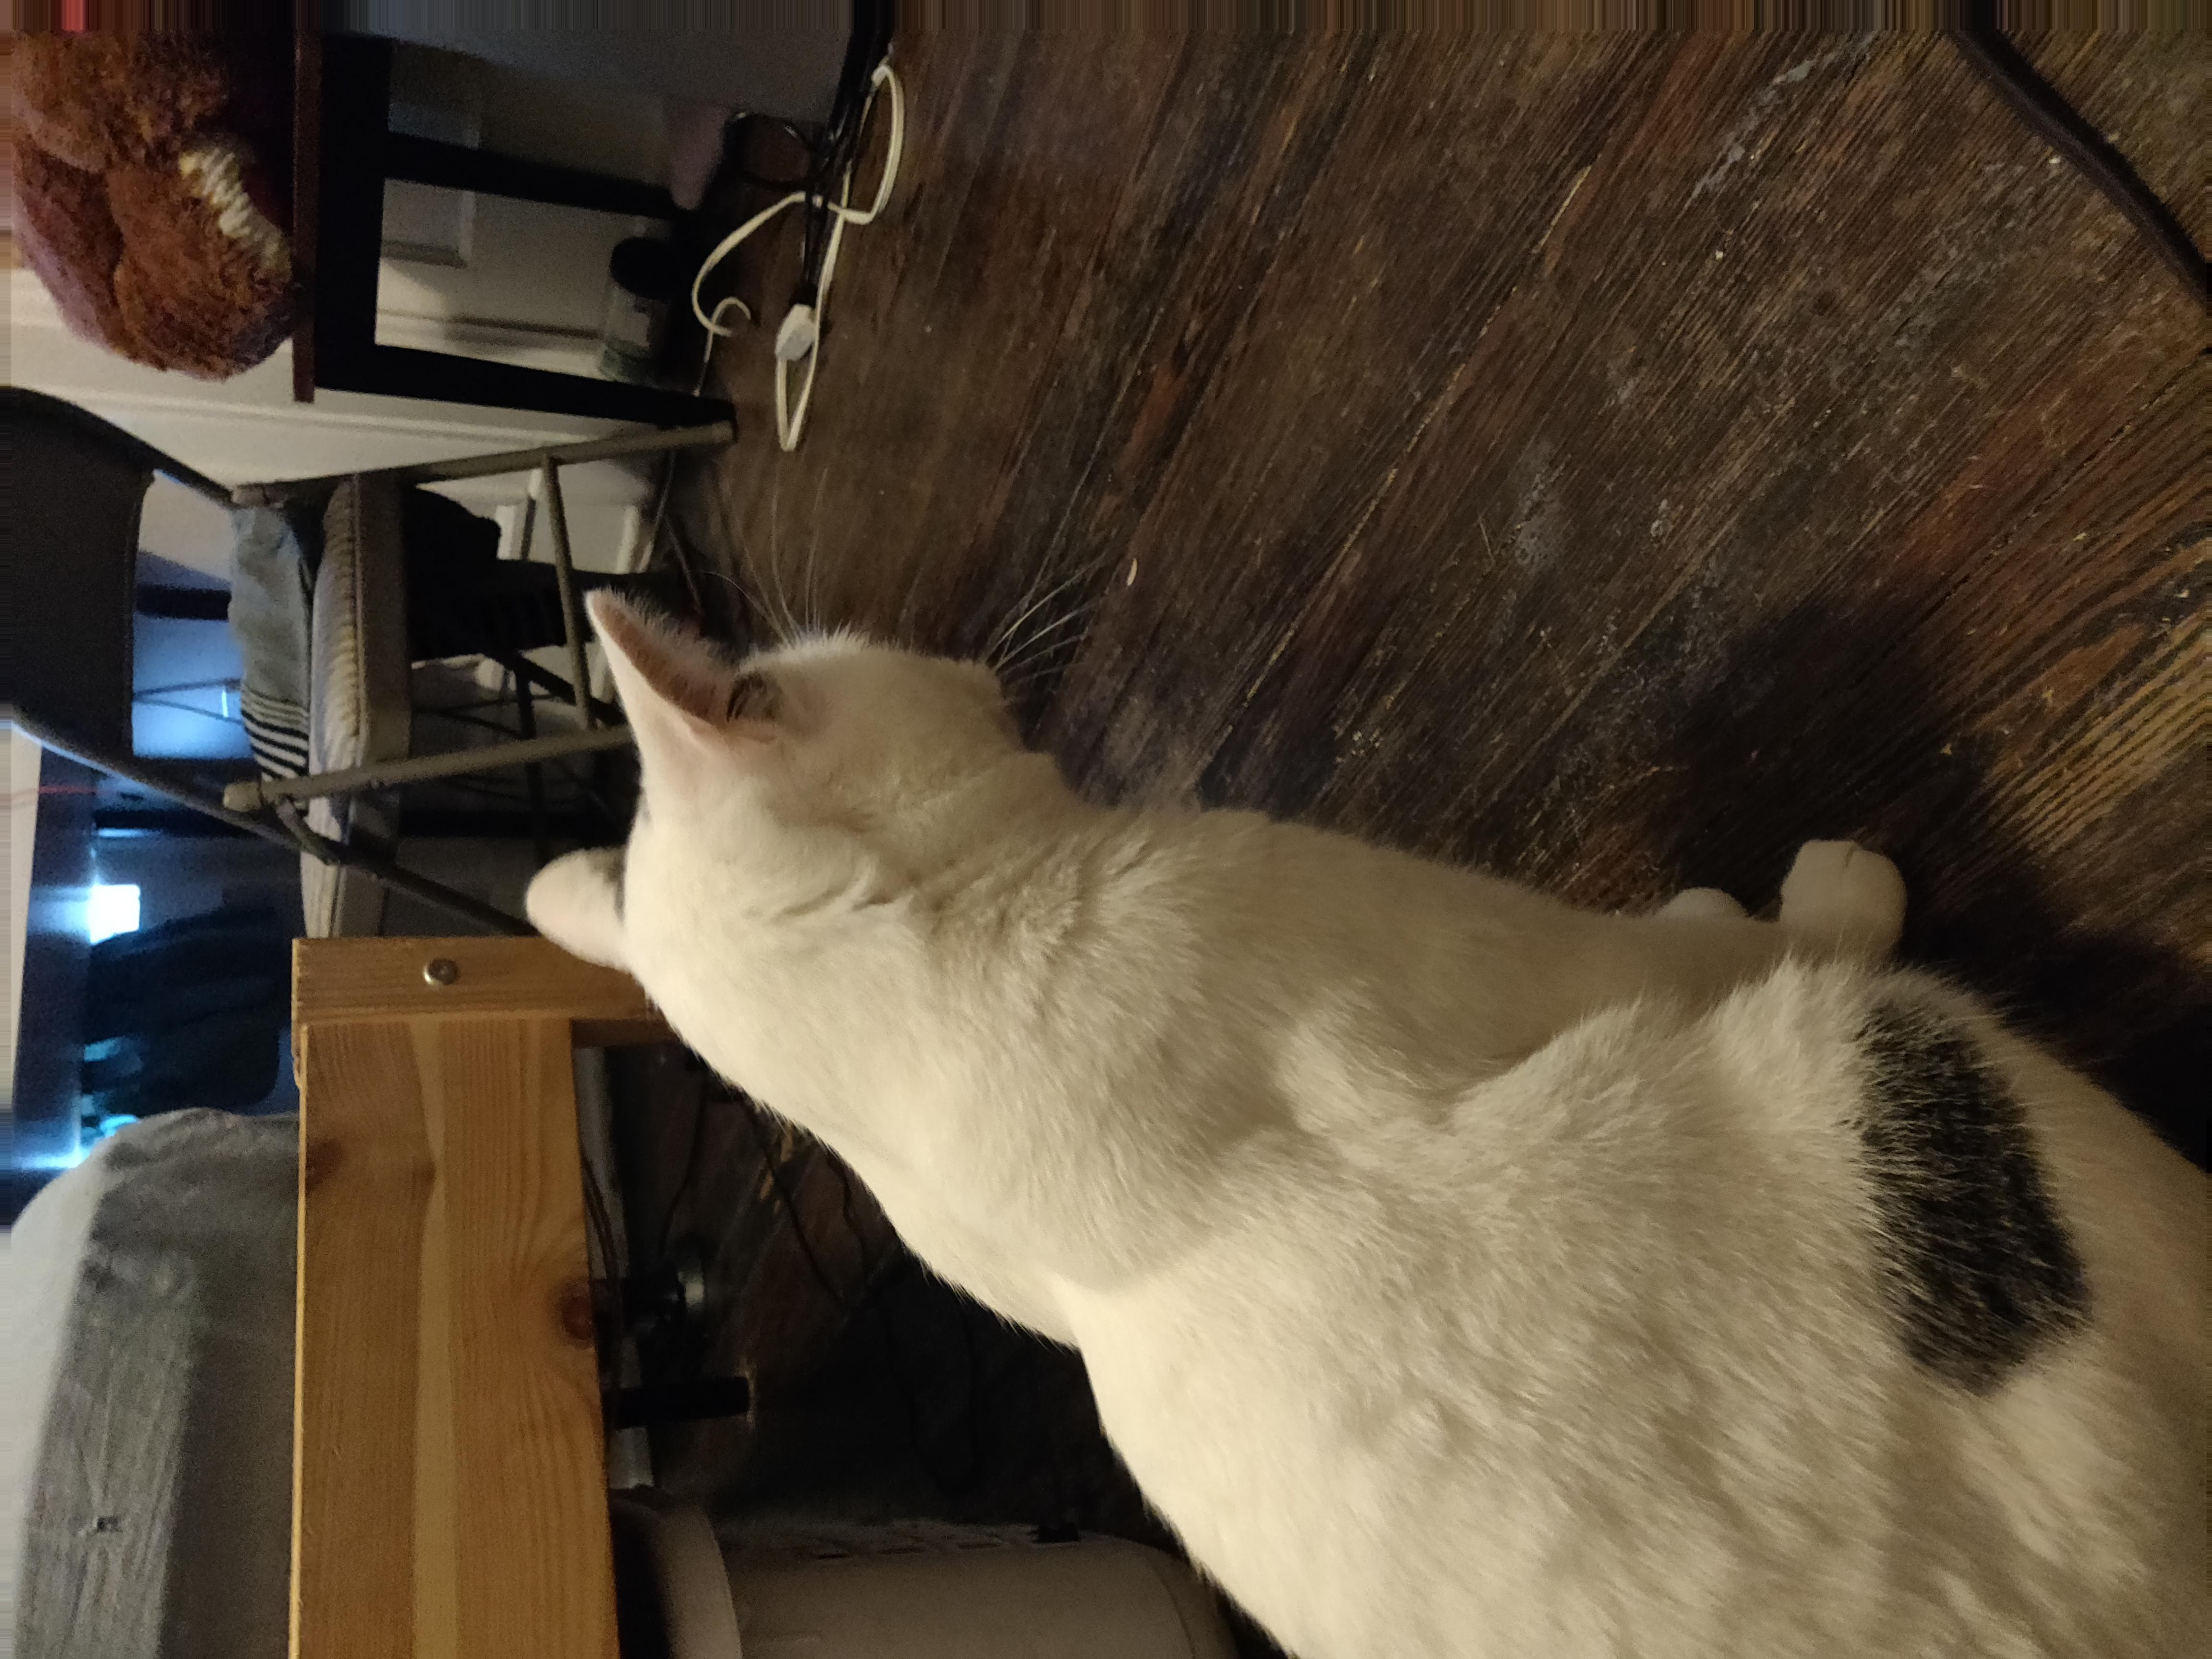cat: (532, 553, 2212, 1659)
